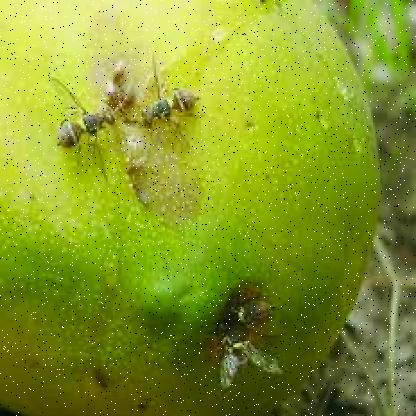damaged_apple: (22, 54, 350, 406)
